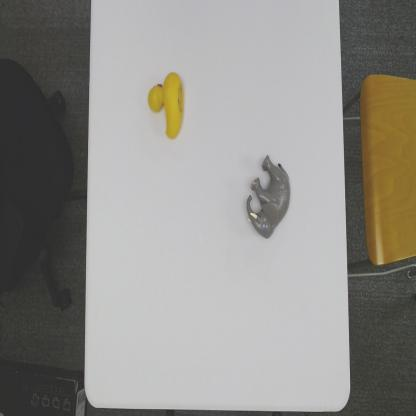Duck: (147, 69, 186, 141)
Elephant: (244, 150, 292, 240)
